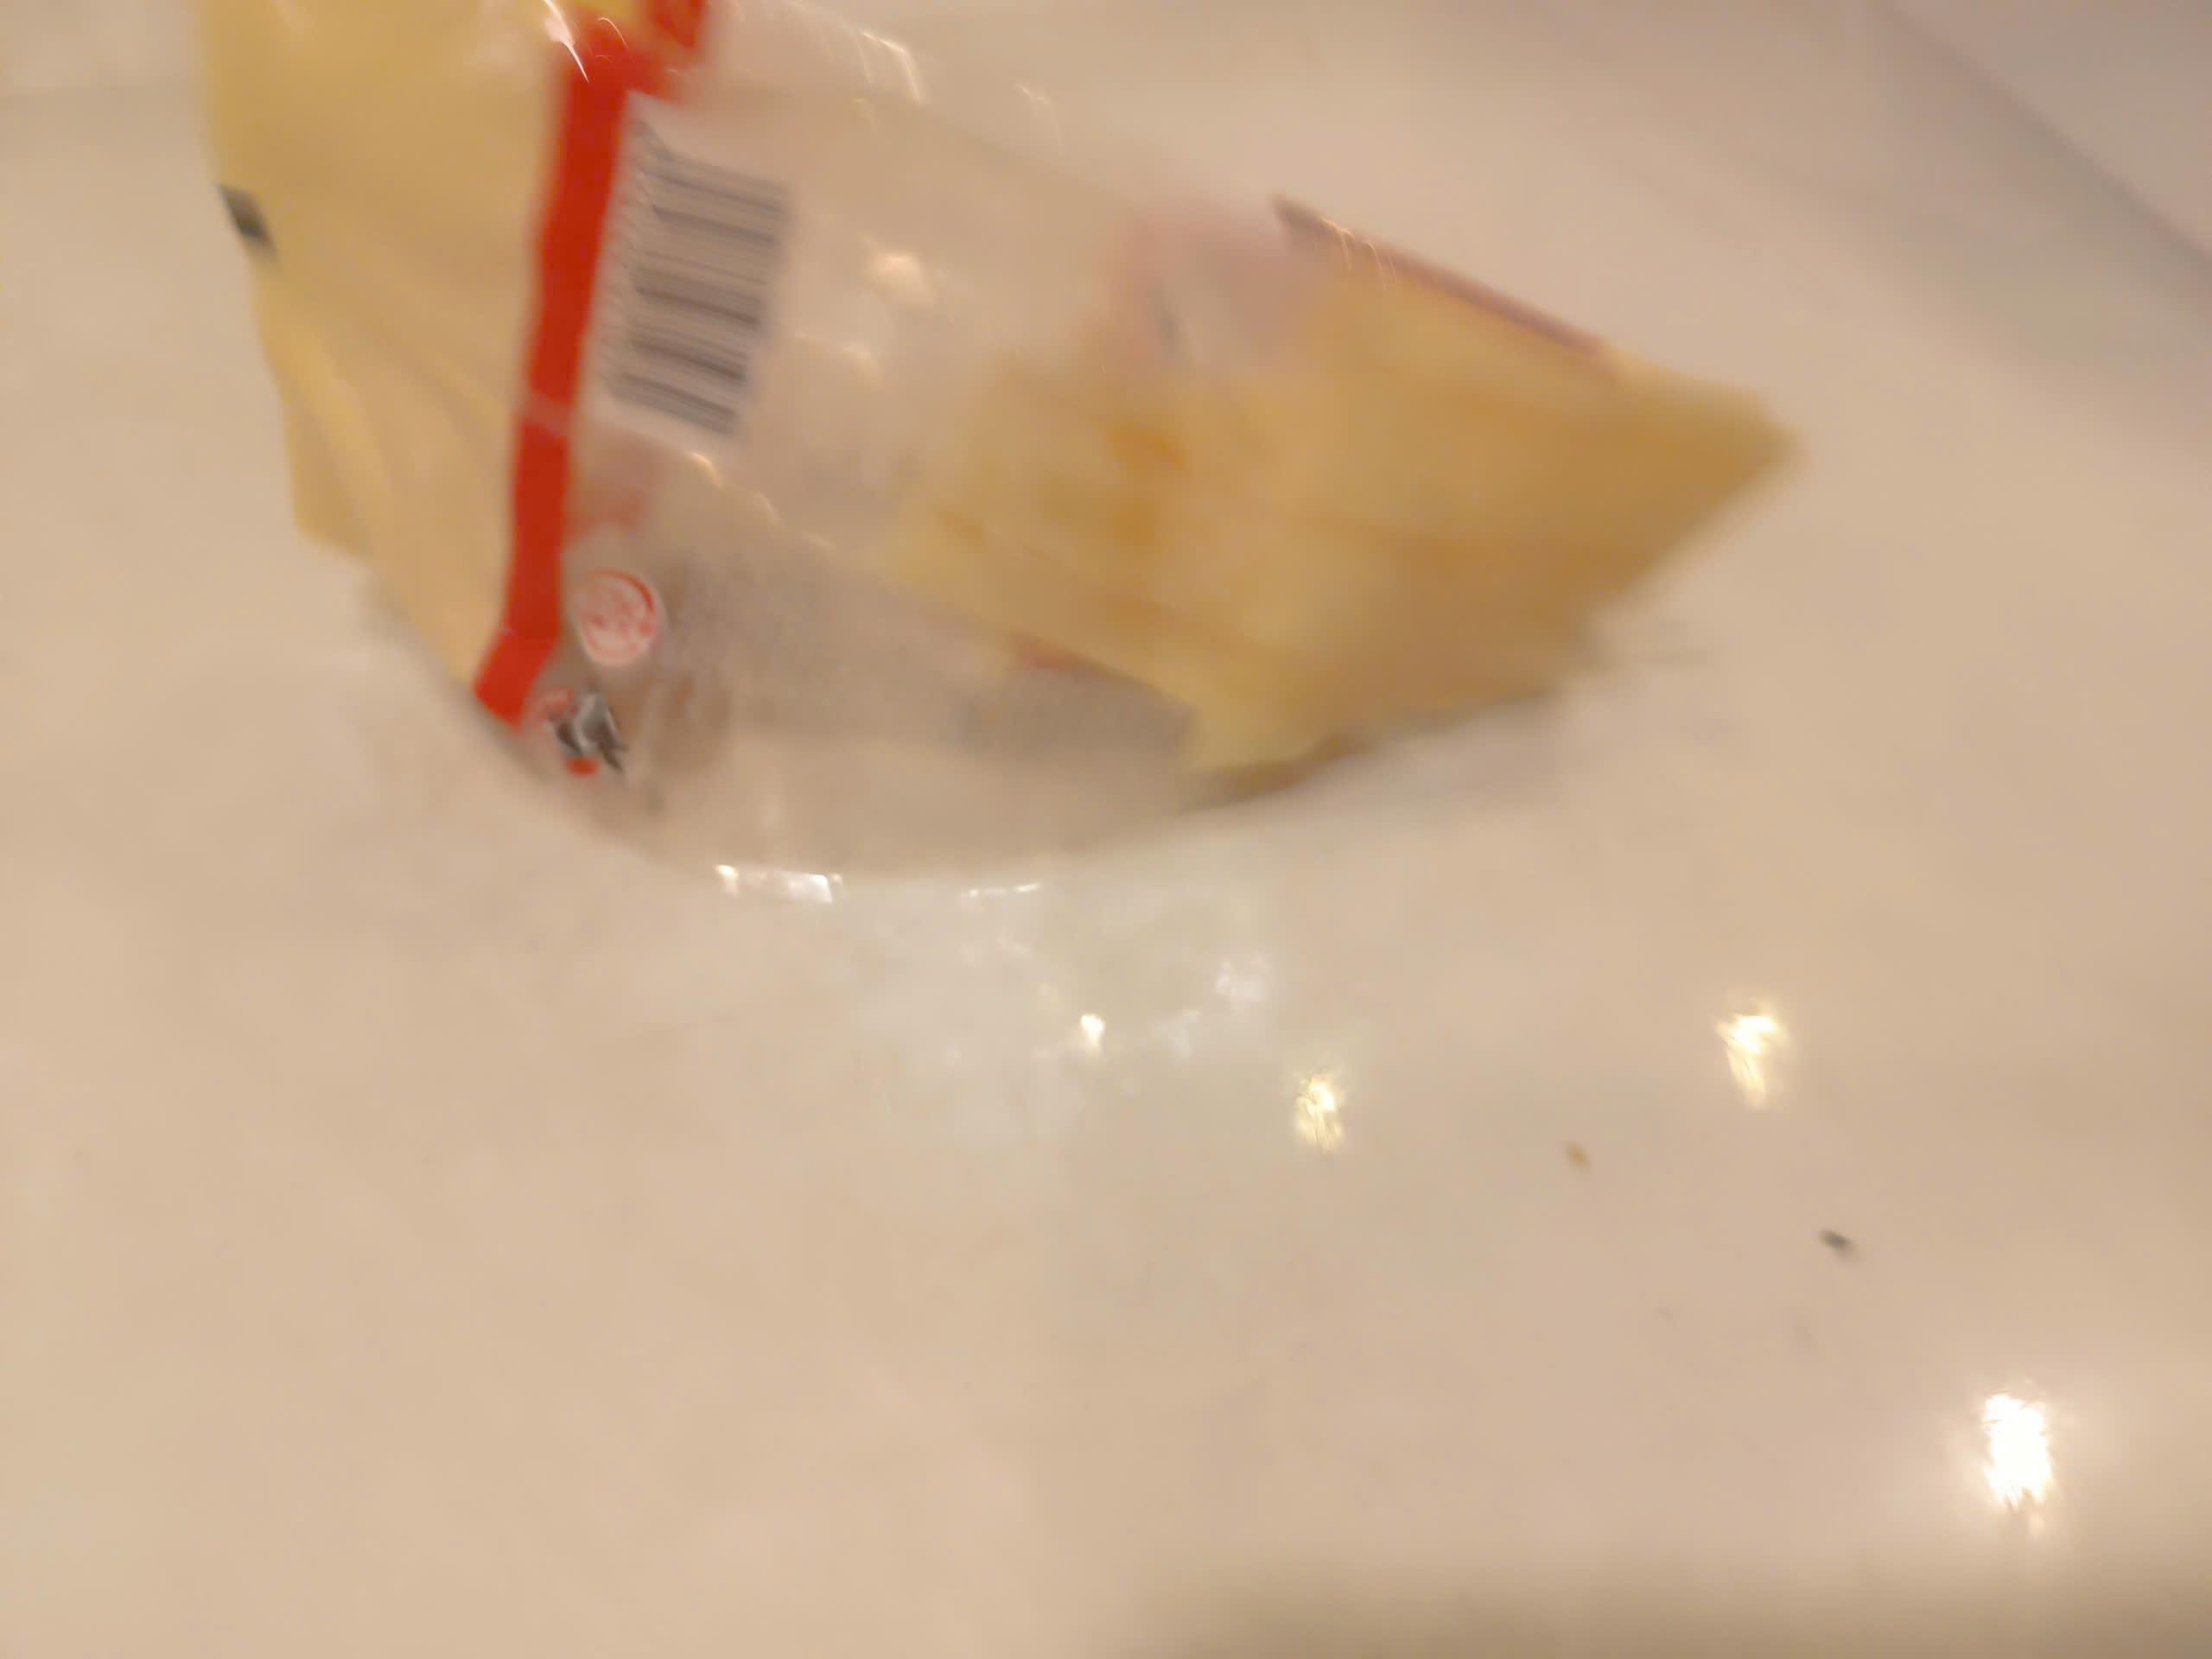Vo co: (195, 16, 1796, 863)
